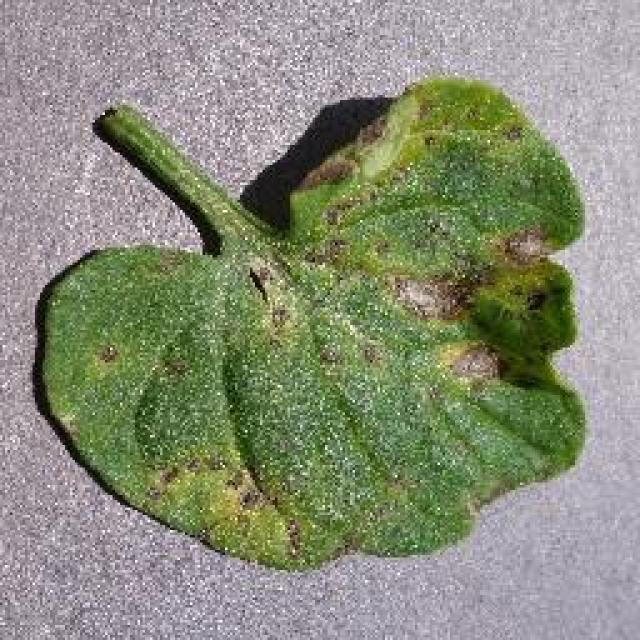Tomato___Septoria_leaf_spot: (48, 78, 585, 568)
